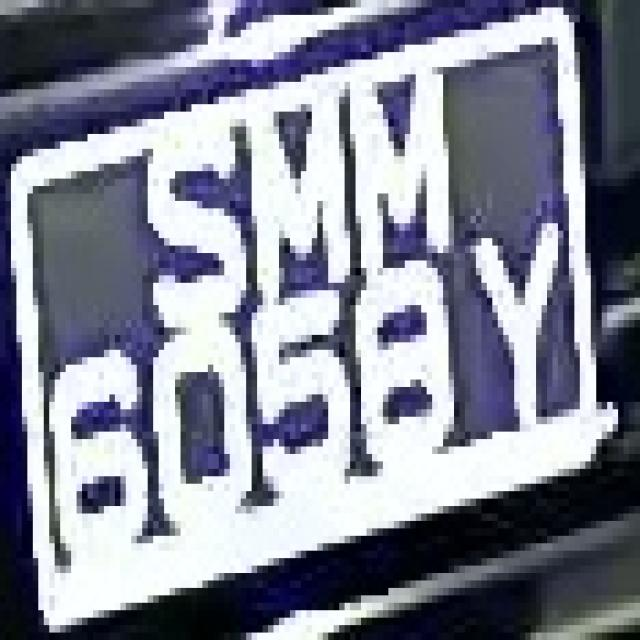0: (136, 342, 262, 521)
5: (246, 290, 356, 491)
6: (33, 342, 158, 544)
8: (361, 253, 465, 469)
M: (235, 67, 356, 268), (356, 60, 470, 253)
S: (126, 119, 240, 328)
Y: (465, 208, 596, 417)
